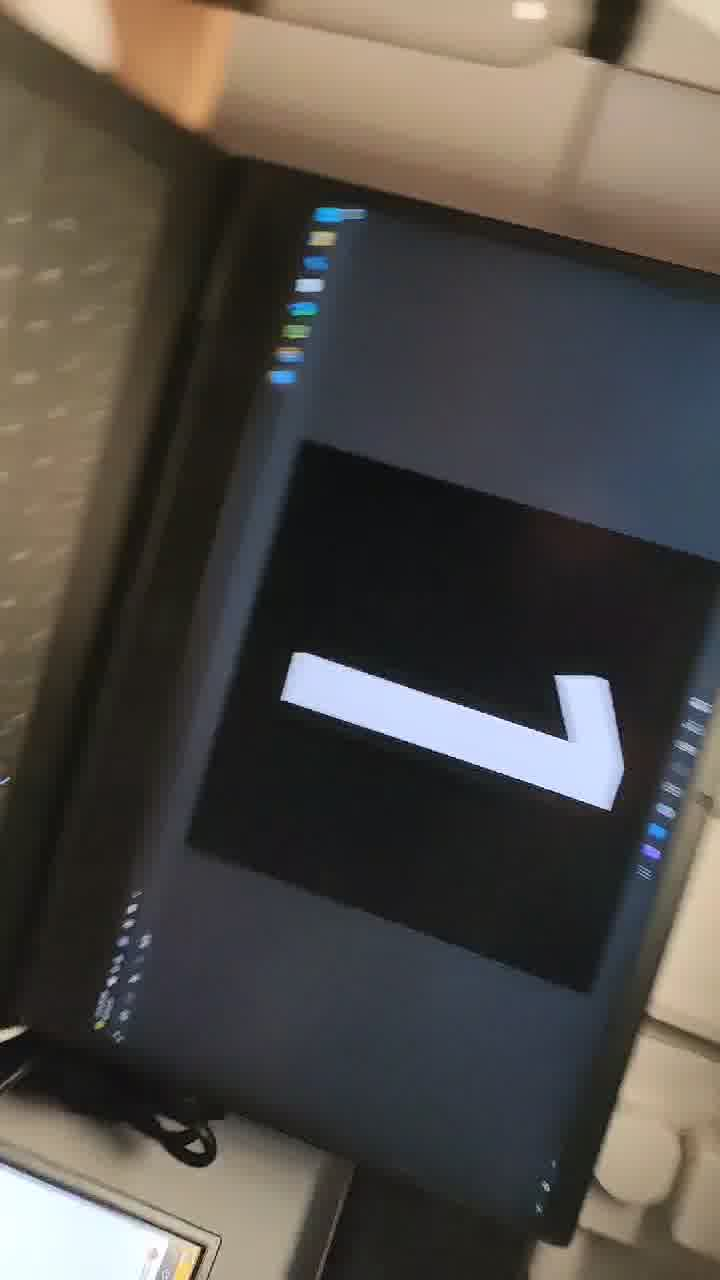one: (242, 557, 673, 976)
